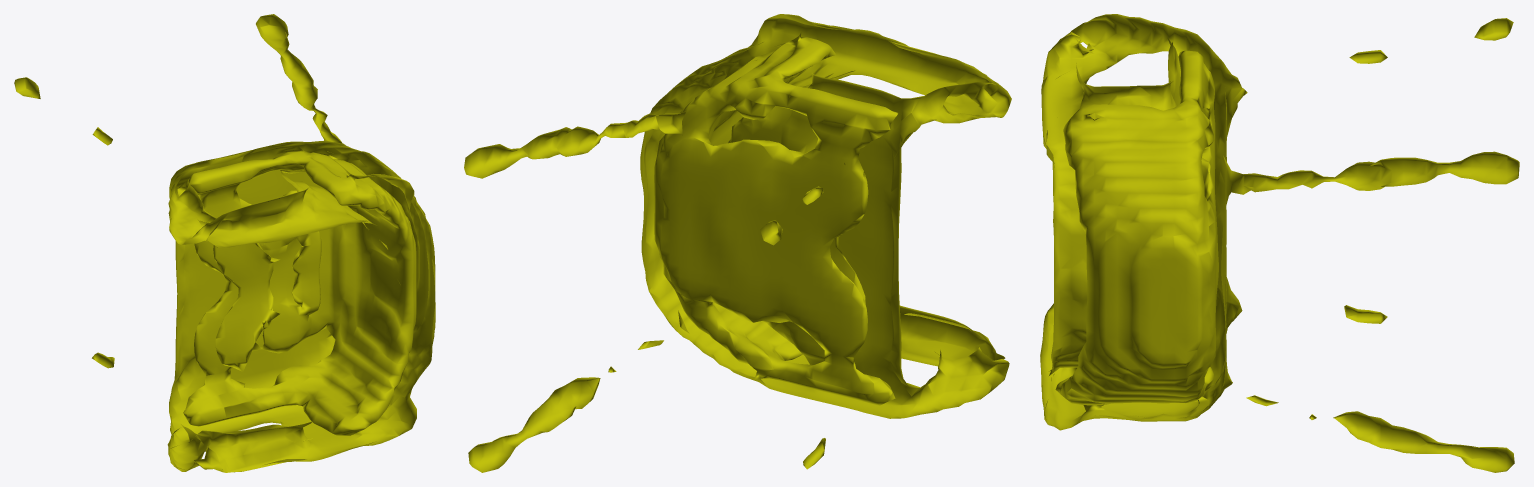
3 views of the same model, side by side, from view 1: azimuth 30°, elevation 25°; view 2: azimuth 150°, elevation 25°; view 3: azimuth 270°, elevation 25° (orthographic). The views are drawn at different scales.
Visible parts, largest first — view 1: world; view 2: world; view 3: world.
Boxes of the visible parts, box(x1,y1,x2,y2) form: world: box(14, 14, 435, 472); world: box(464, 14, 1011, 472); world: box(1040, 14, 1519, 472).
Bounding box in the file's own units: 33.34 × 30.41 × 41.89.
